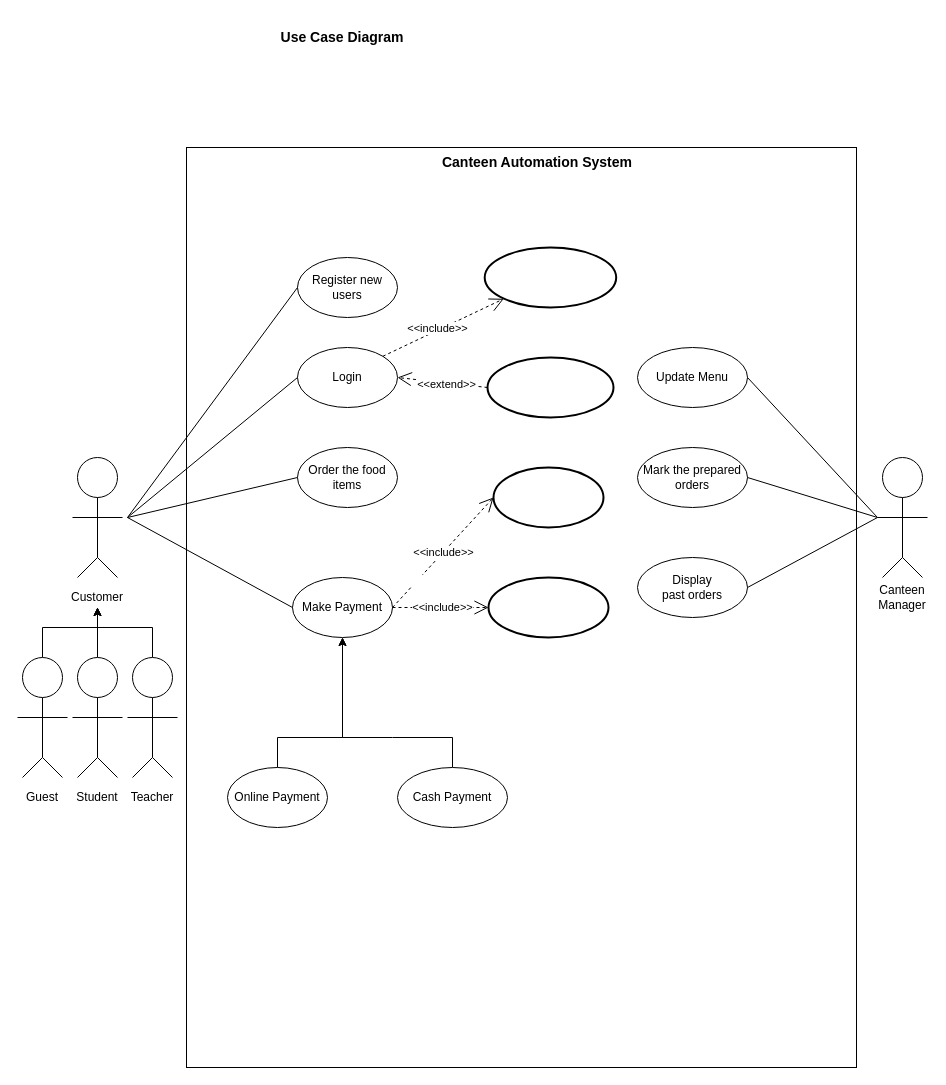
Image size: 946x1085. Some labels were removed from this diagram. Each missing label, with the box of its shape:
Display error login: (486, 356, 614, 418)
Generate OTP: (492, 466, 604, 528)
Insufficient funds: (487, 576, 609, 638)
Verify password: (483, 246, 617, 308)
